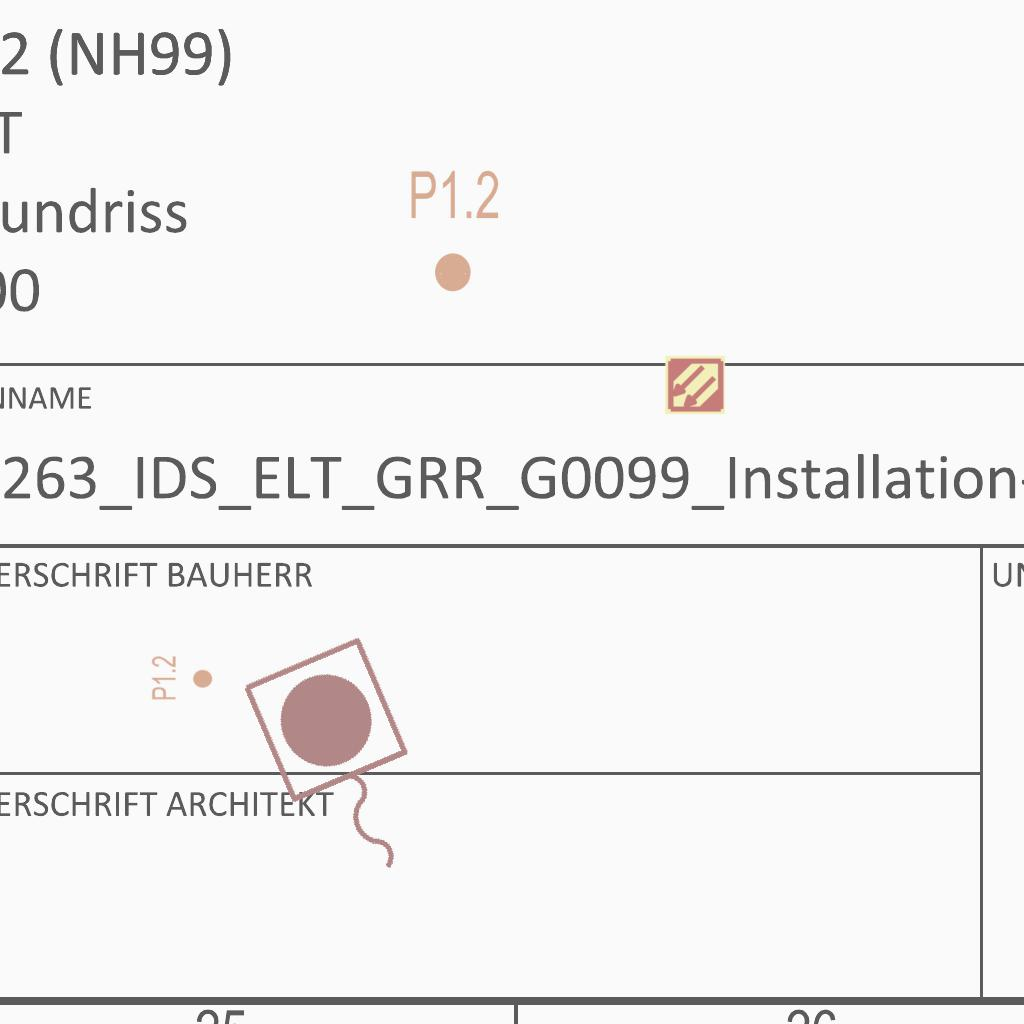ASR_Ansaugrauchmelder: (664, 354, 726, 416)
Downlight_LED_Einbauleuchten_Flur: (408, 167, 501, 295), (150, 655, 214, 701)
Zugtaster: (230, 626, 458, 908)
